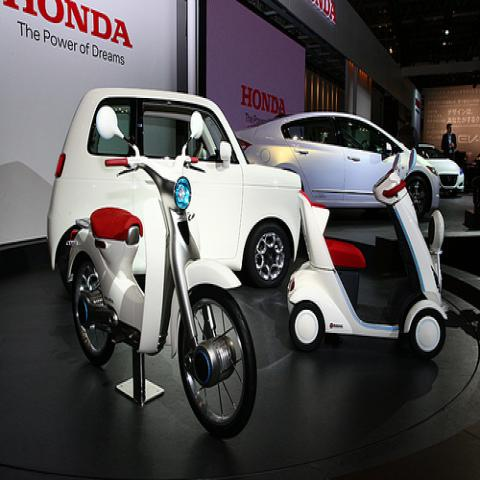car: (48, 88, 303, 293), (237, 96, 440, 221), (416, 144, 465, 198)
motorcycle: (55, 102, 257, 439), (284, 146, 448, 363)
